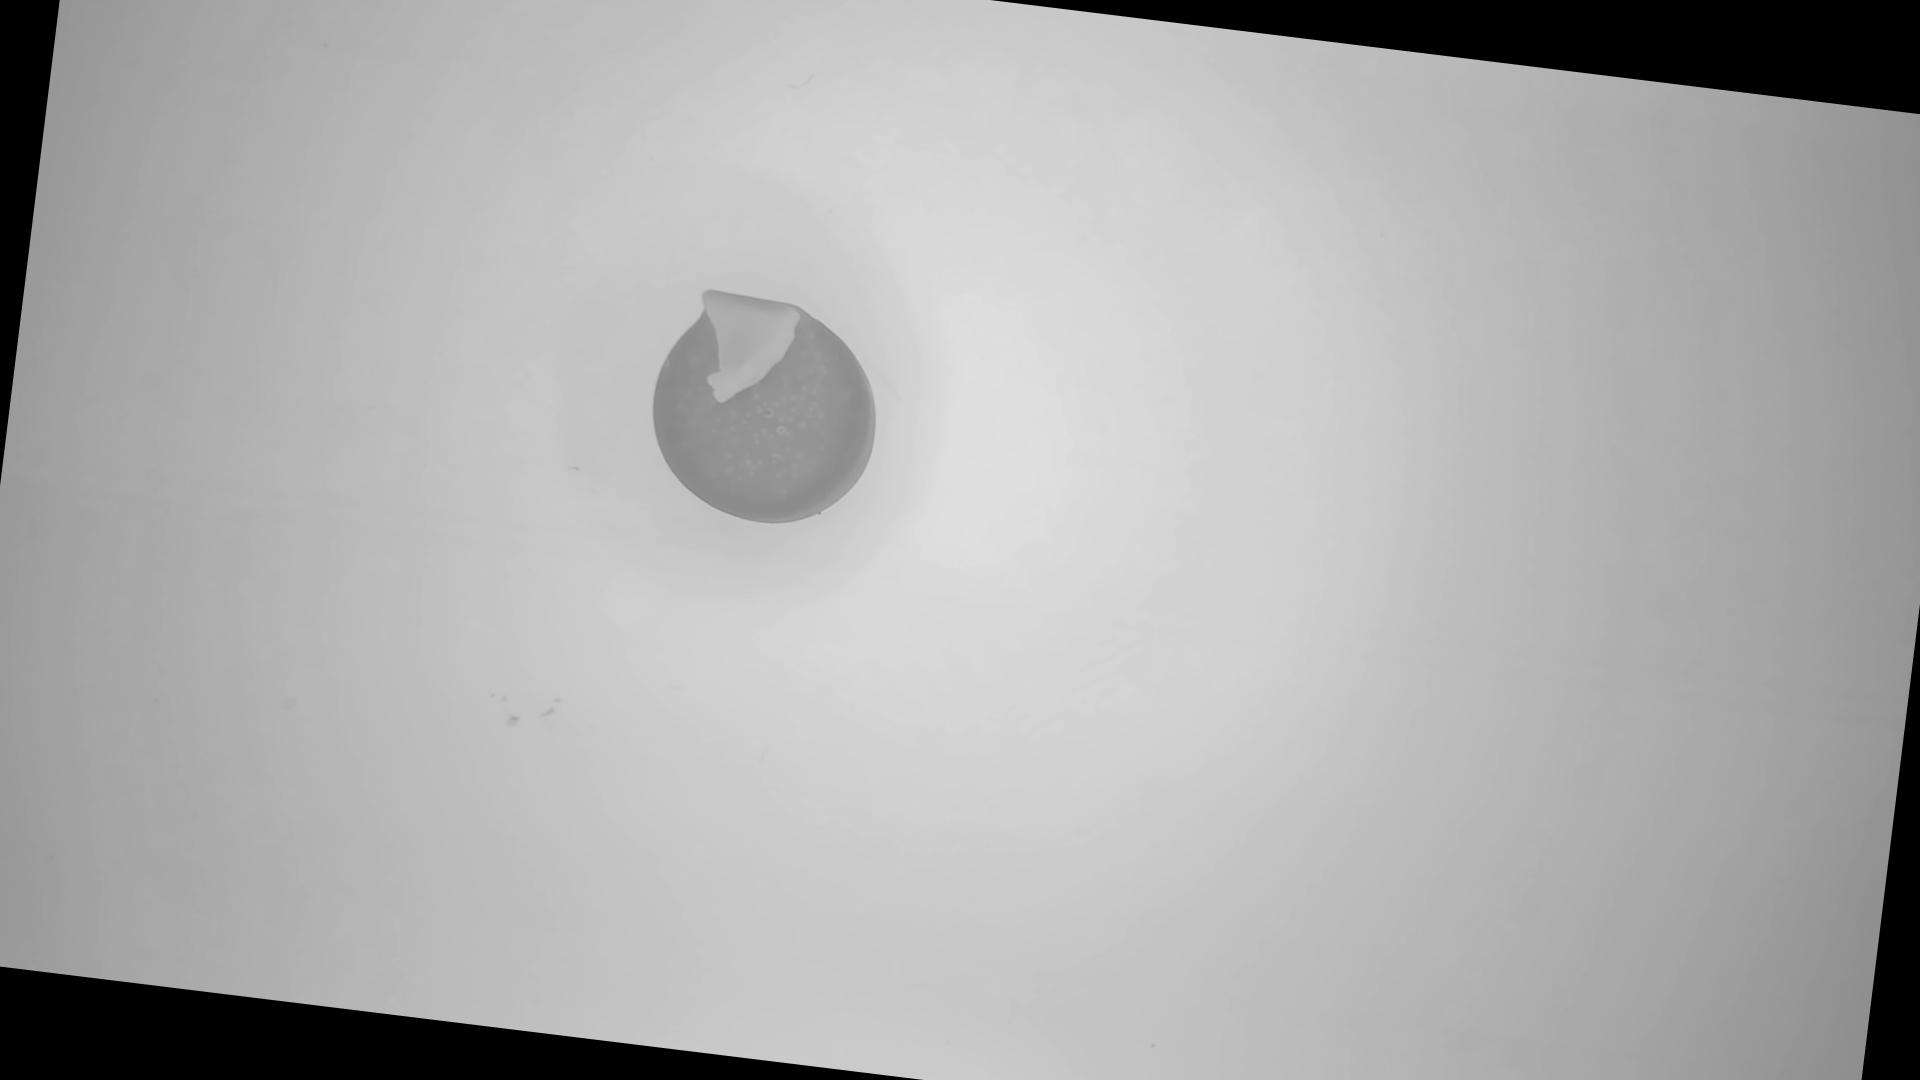abnormal: (640, 282, 895, 541)
